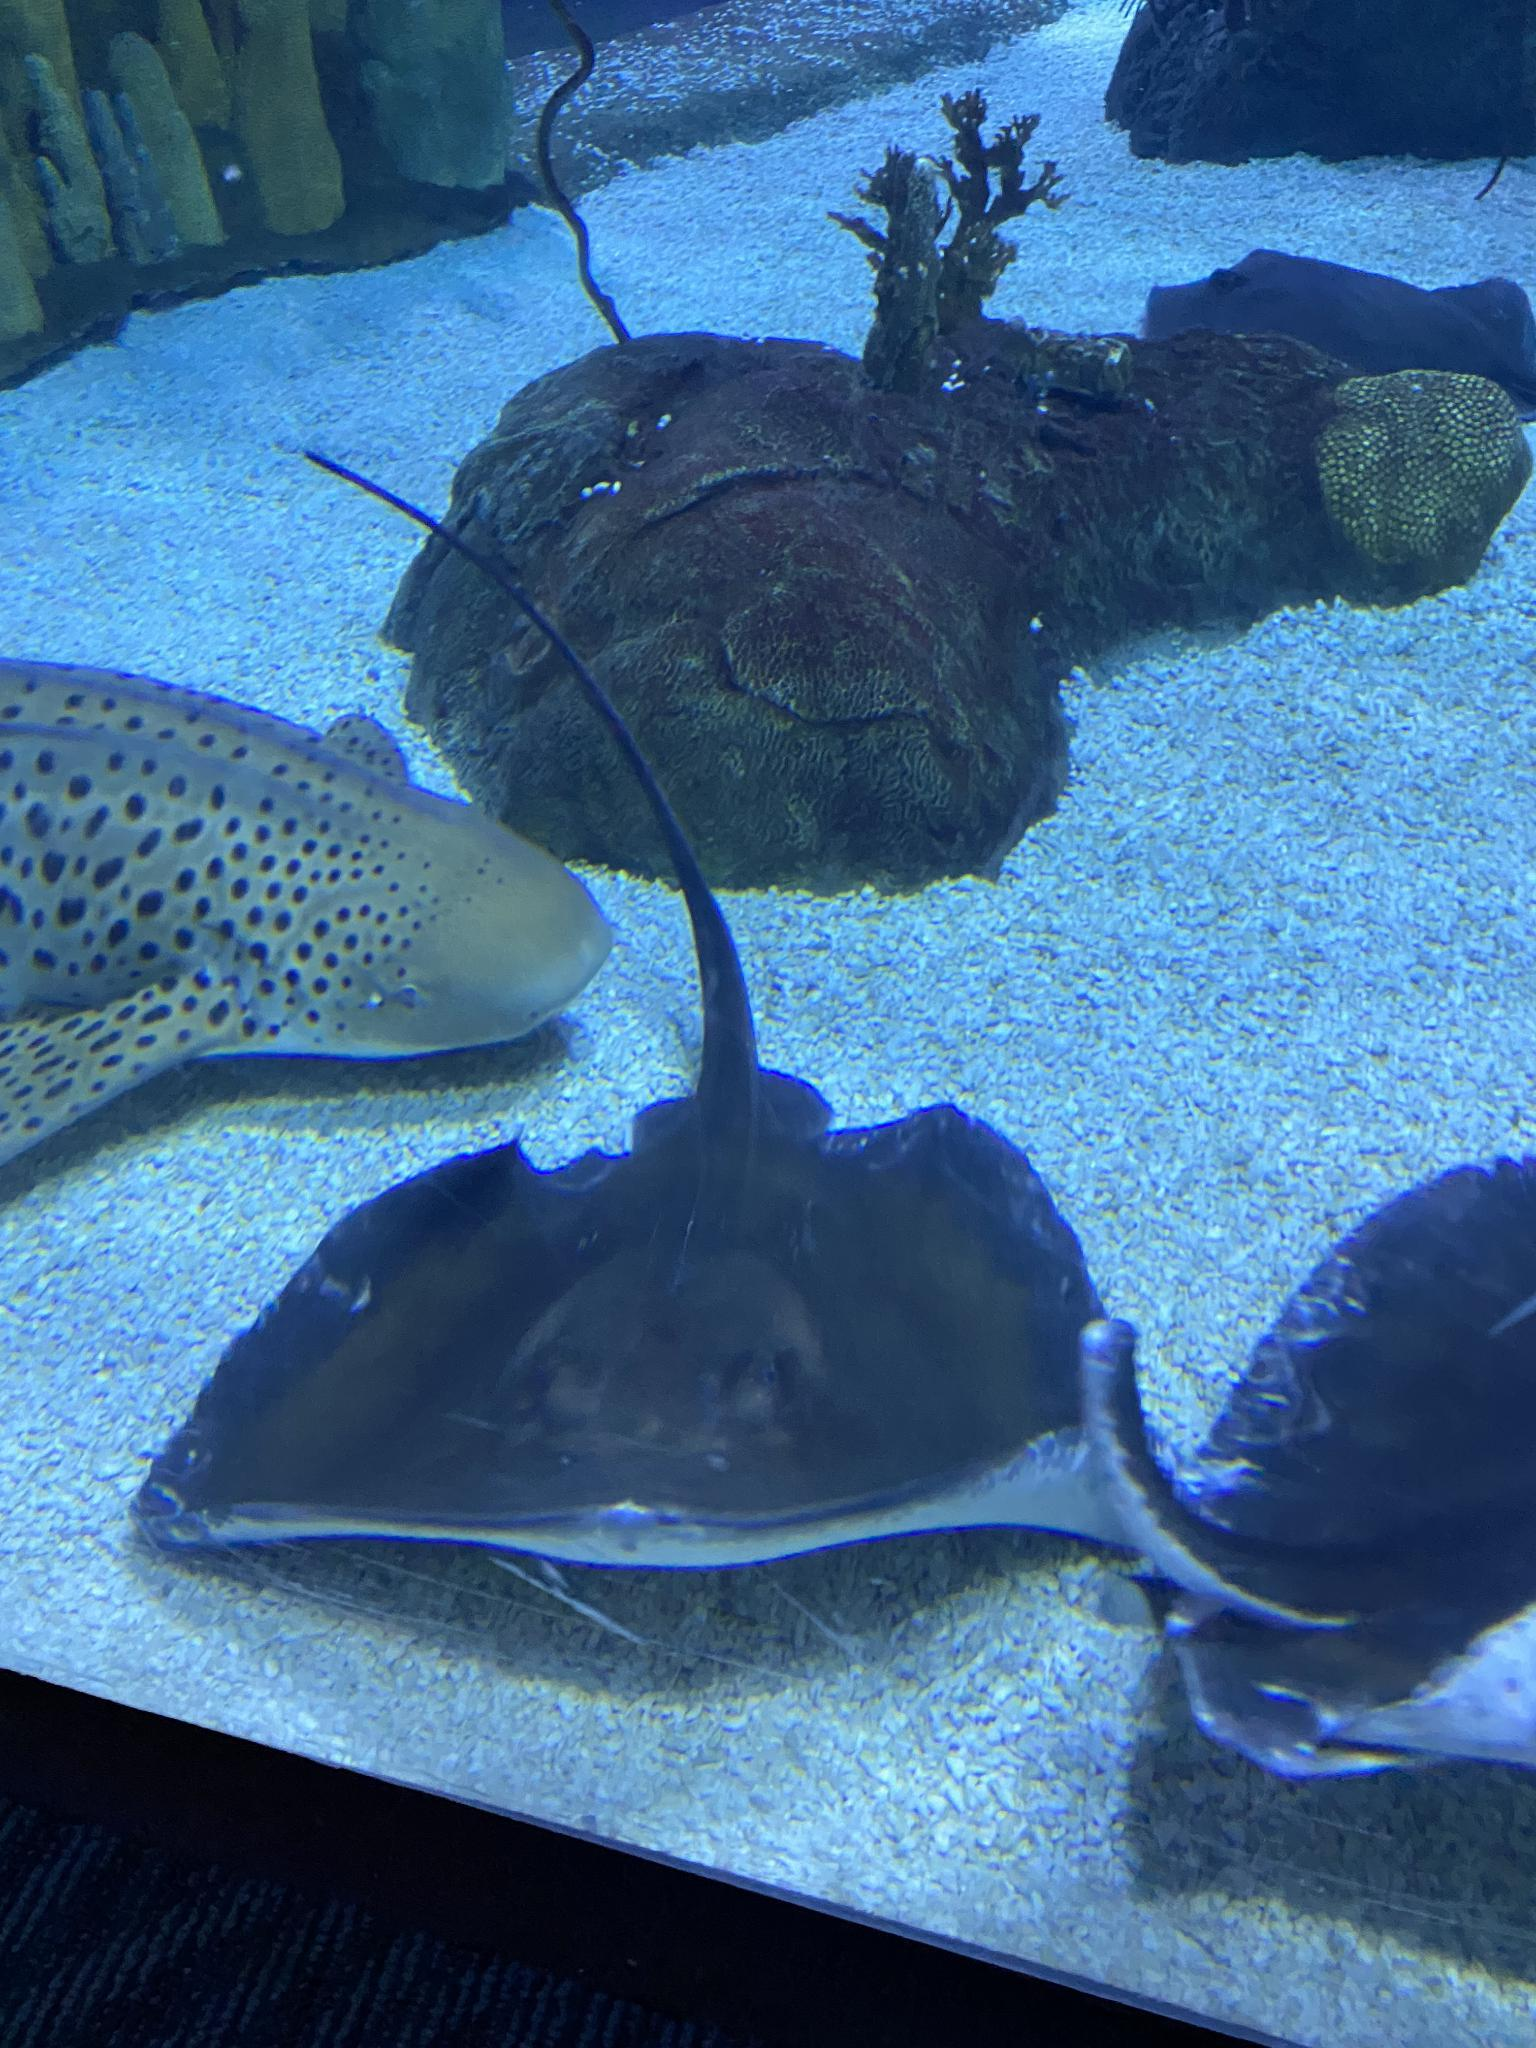shark: (3, 643, 611, 1208)
stingray: (132, 1071, 1108, 1577), (1171, 1155, 1534, 1788), (1146, 250, 1536, 423)
